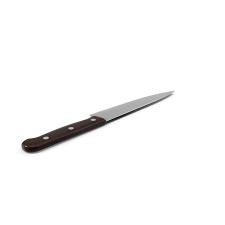Knife: (21, 89, 174, 153)
